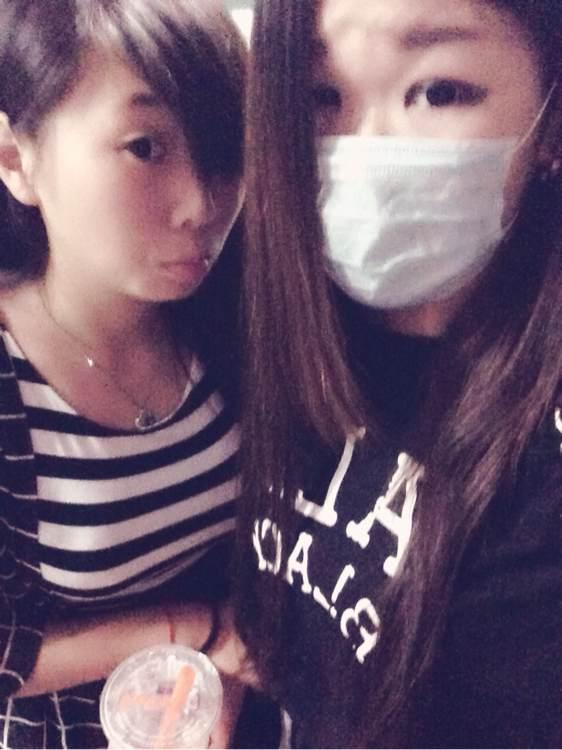NONE: (70, 113, 255, 299)
OK: (246, 17, 534, 305)
